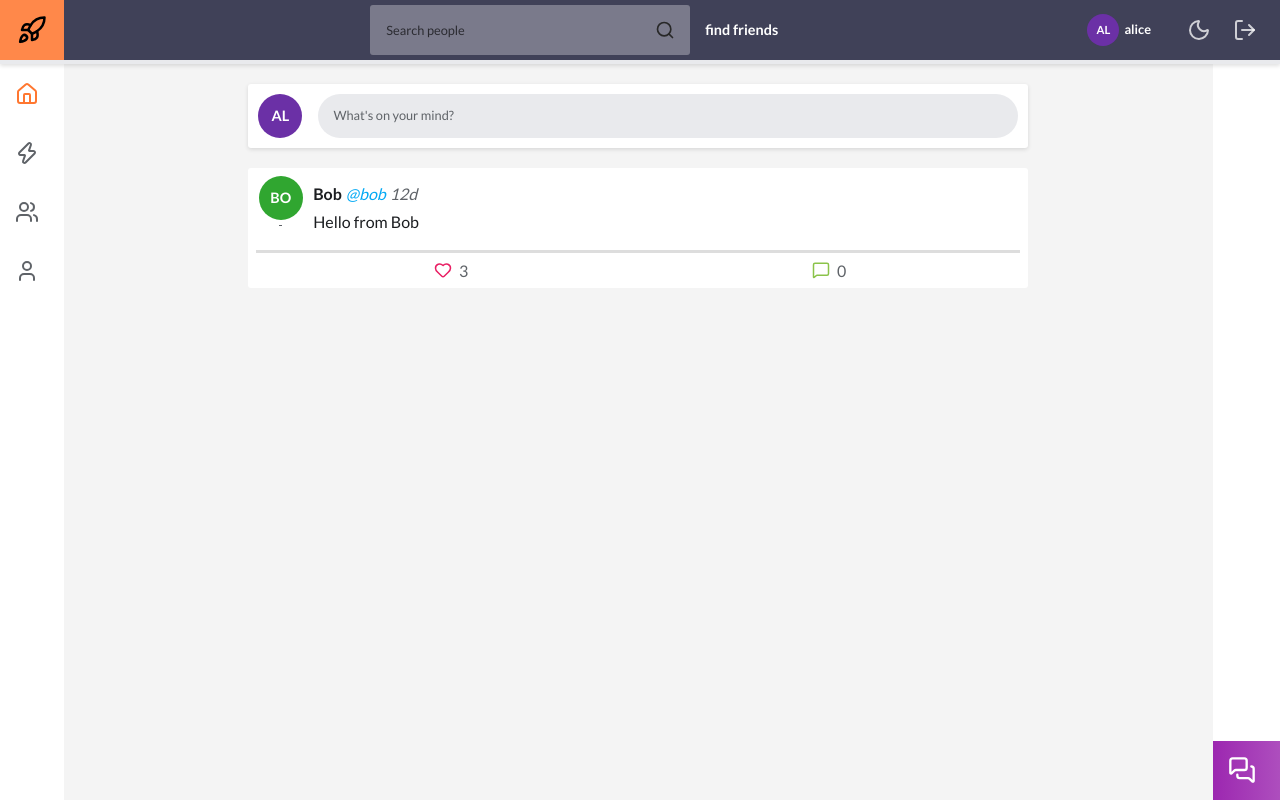
comments › shows the delete button only on the user's own comments under someone else's post
Click the button named "Comments": (827, 270) [638,257,1016,284]
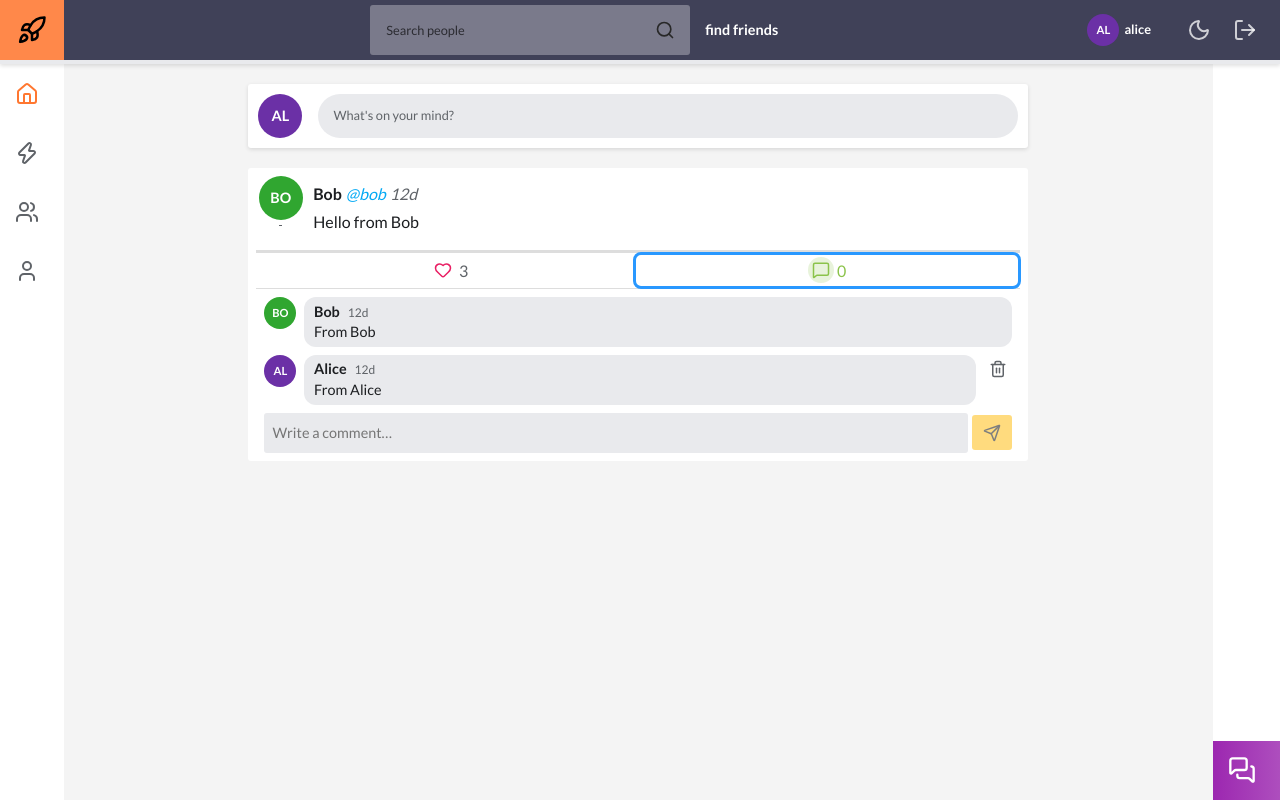
Result: the button named "Delete comment by alice" in the row of "From Alice" is shown at [984,355,1012,384]
